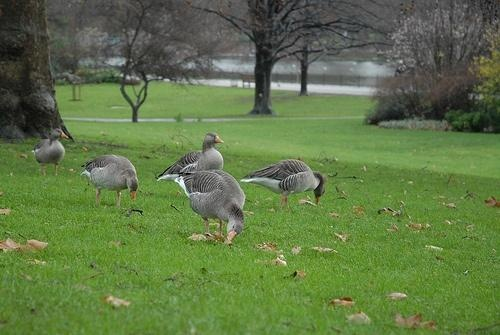bird: (158, 170, 249, 242), (242, 160, 325, 213), (160, 134, 224, 183), (82, 157, 138, 210), (35, 130, 72, 174)
